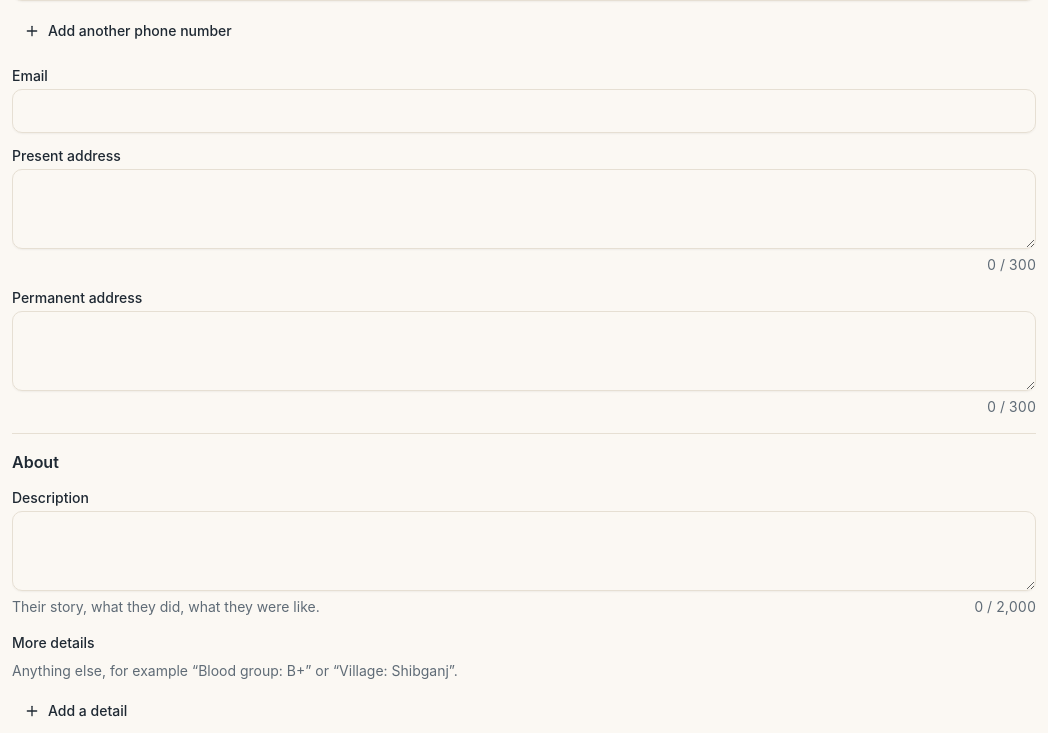
Test case: PersonDetailsForm (P5-01) › counts the description against its limit
The width and height of the screenshot is (1048, 733).
(page scrolled)
Type "Headmaster" into the text box labelled "Description" at (524, 551), box [12,511,1036,591]
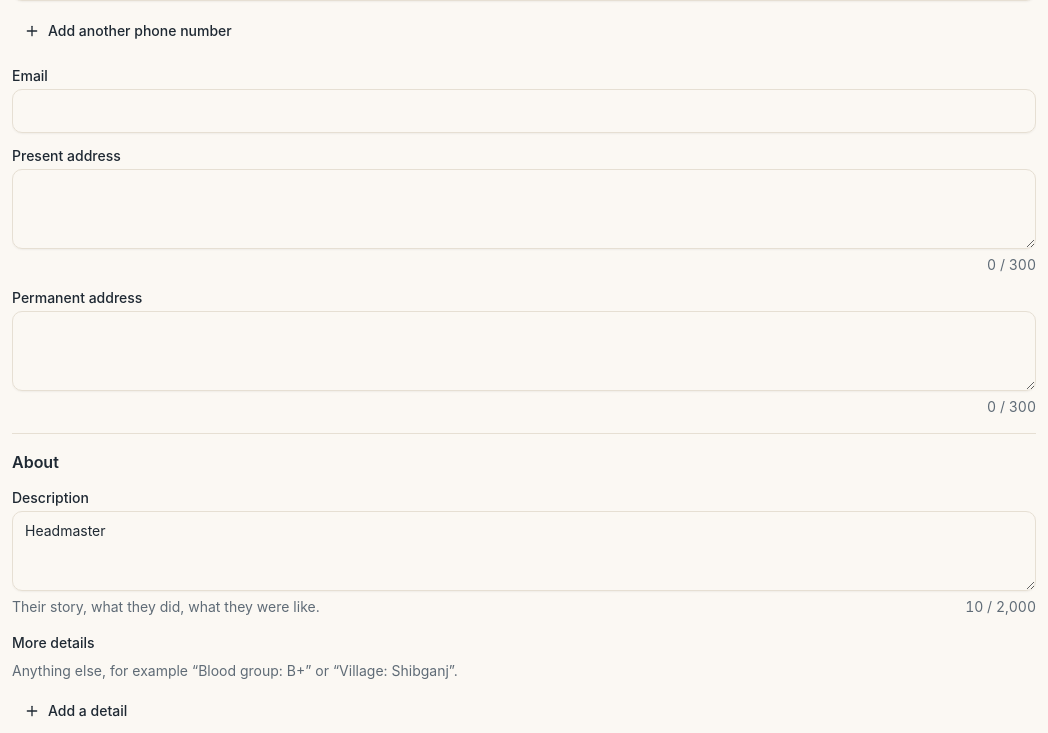
Expected: the text "10 / 2,000" is shown, [965,597,1036,617]
